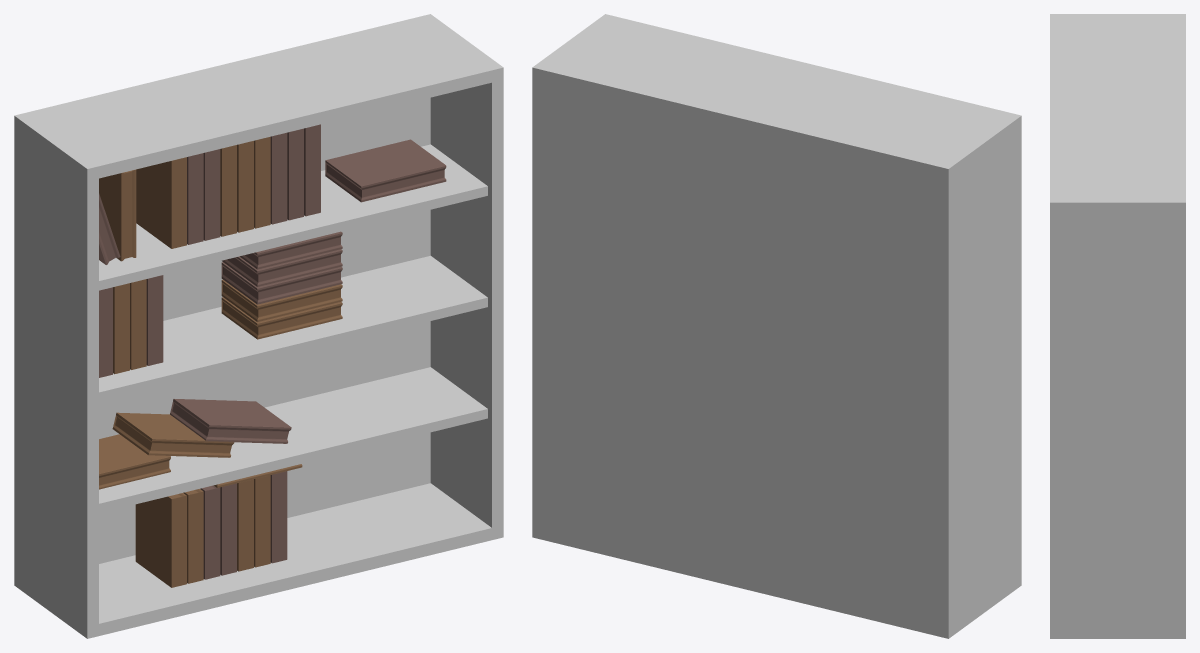
The model's file is Bookshelf.fbx.
3 views of the same model, side by side, from view 1: azimuth 30°, elevation 25°; view 2: azimuth 150°, elevation 25°; view 3: azimuth 270°, elevation 25° (orthographic). The views are drawn at different scales.
Visible parts, largest first — view 1: Cube.037; view 2: Cube.037; view 3: Cube.037.
Boxes of the visible parts, left/top/right/bottom form: Cube.037: left=14, top=14, right=503, bottom=638; Cube.037: left=532, top=14, right=1021, bottom=638; Cube.037: left=1050, top=14, right=1185, bottom=638.
Bounding box in the file's own units: 142 × 153 × 43.14.
